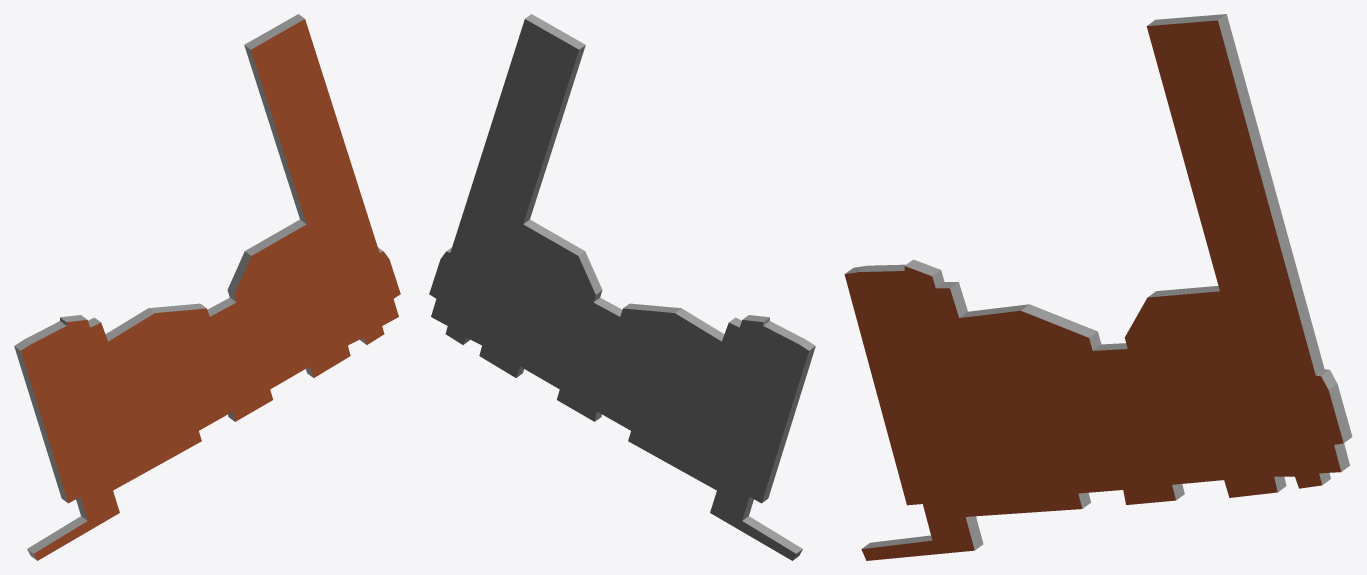
Rendered from construction_0117_assumed_A_Grande_construcao_h6m.obj.
3 views of the same model, side by side, from view 1: azimuth 30°, elevation 25°; view 2: azimuth 150°, elevation 25°; view 3: azimuth 330°, elevation 25° (orthographic). The views are drawn at different scales.
Visible parts, largest first — view 1: construction_0117_assumed_A_Grande_construcao; view 2: construction_0117_assumed_A_Grande_construcao; view 3: construction_0117_assumed_A_Grande_construcao.
Boxes of the visible parts, x1=… form: construction_0117_assumed_A_Grande_construcao: x1=14, y1=14, x2=400, y2=560; construction_0117_assumed_A_Grande_construcao: x1=429, y1=14, x2=815, y2=560; construction_0117_assumed_A_Grande_construcao: x1=844, y1=14, x2=1352, y2=560.
Bounding box in the file's own units: 196 × 235 × 6.
